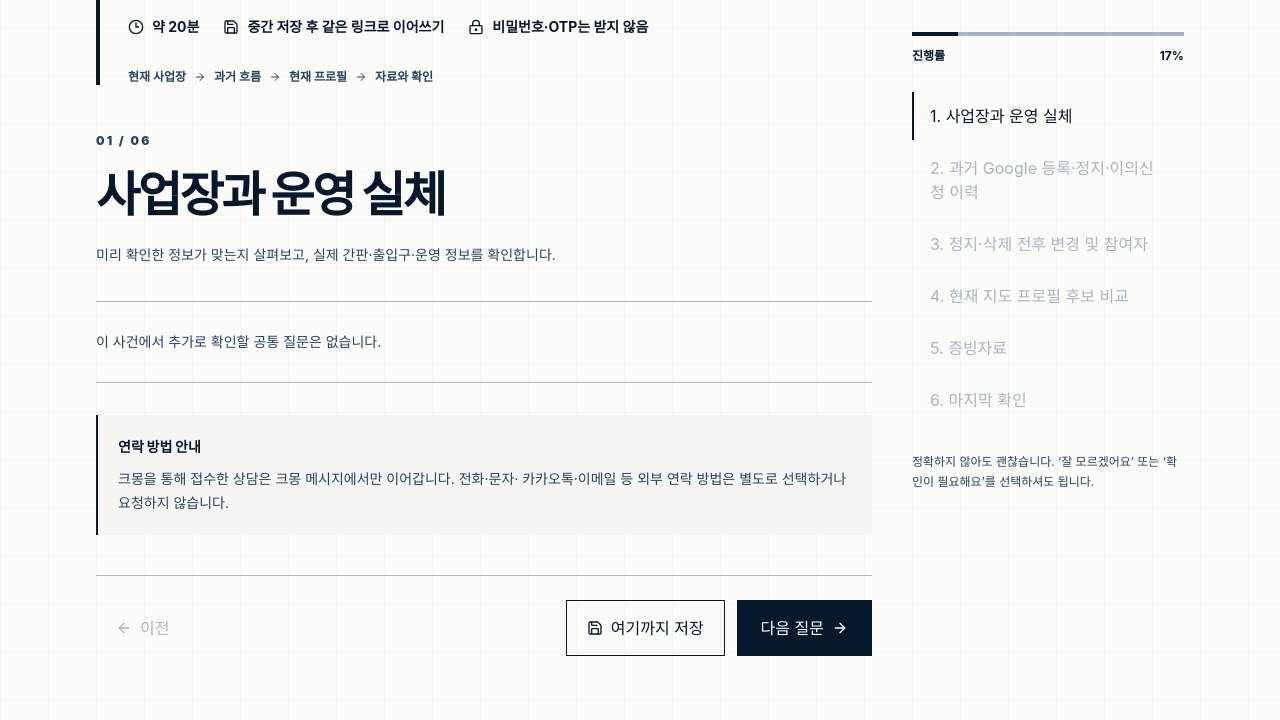
Test case: customer intake draft safety › keeps the current step when draft saving fails
The image size is (1280, 720).
(page scrolled)
Click the button "다음 질문" at (804, 628), box [737, 600, 872, 656]
(page scrolled)
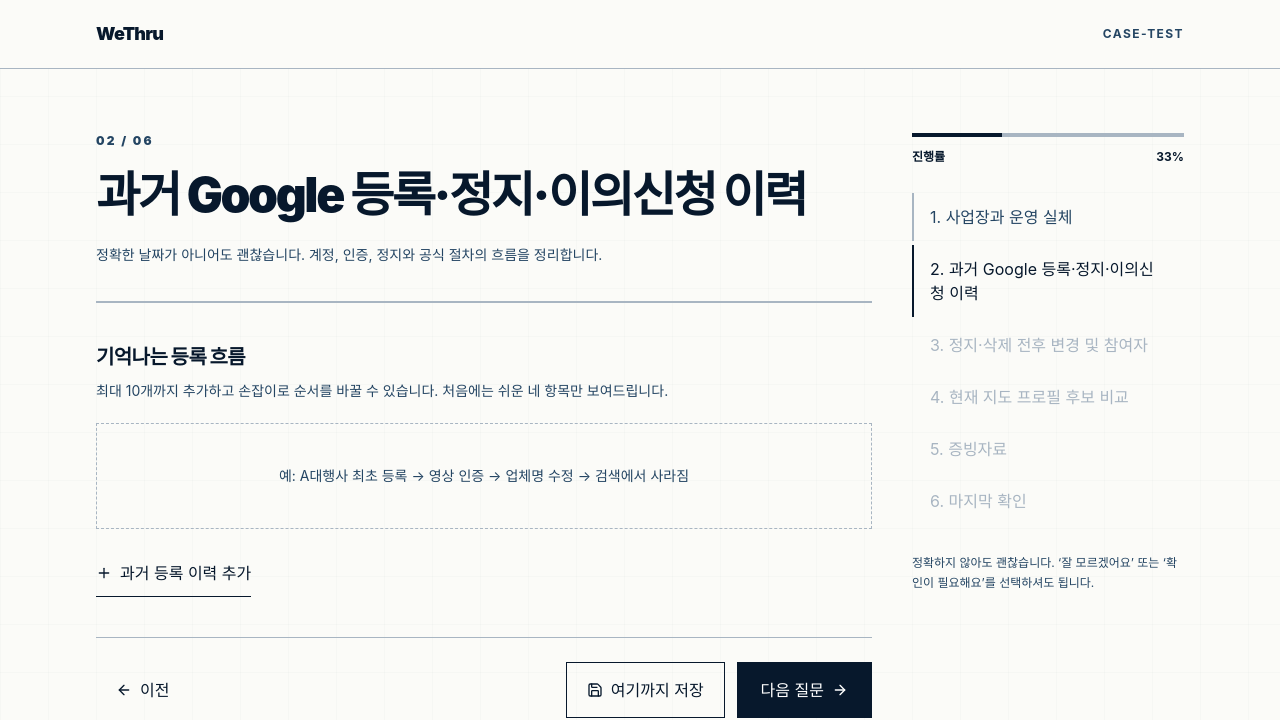
Click the button "여기까지 저장" at (645, 690), box [566, 662, 725, 718]
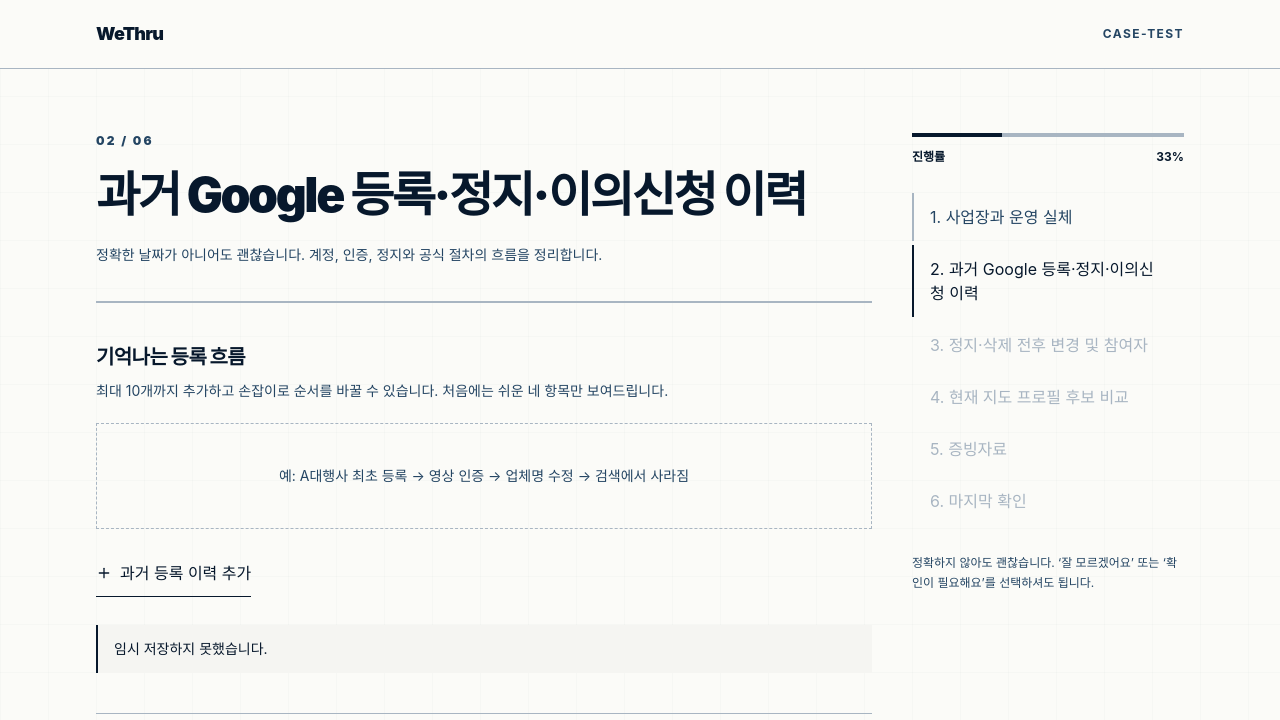
Now the text "임시 저장하지 못했습니다." is shown, box [96, 625, 872, 673]
